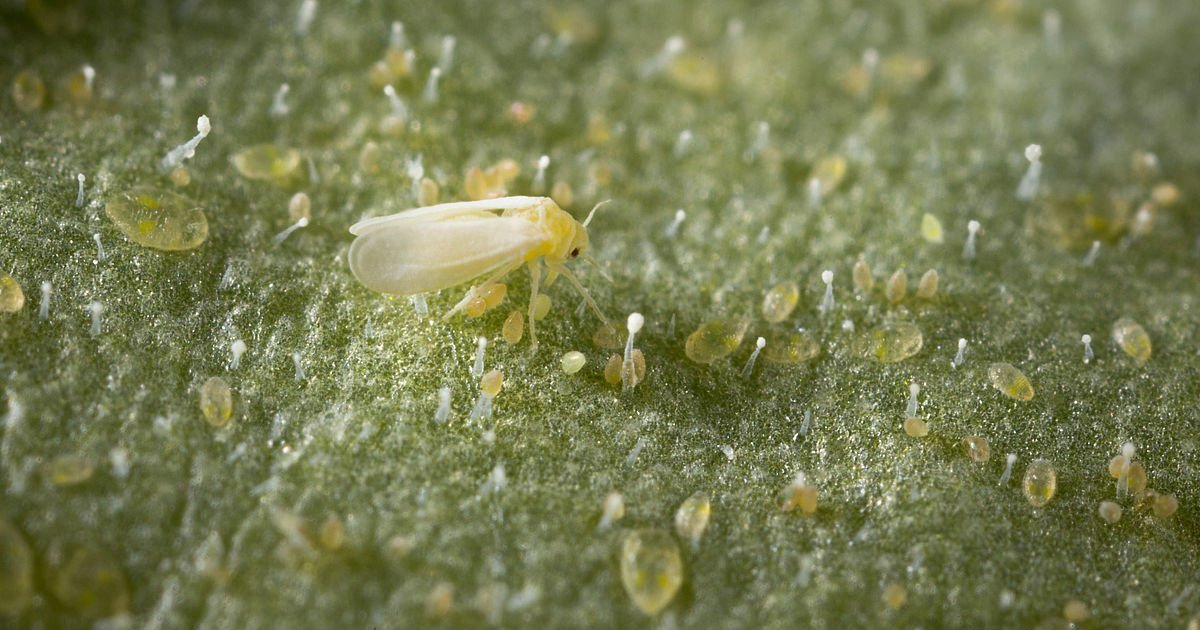Tobacco Whitefly: (313, 162, 642, 343)
